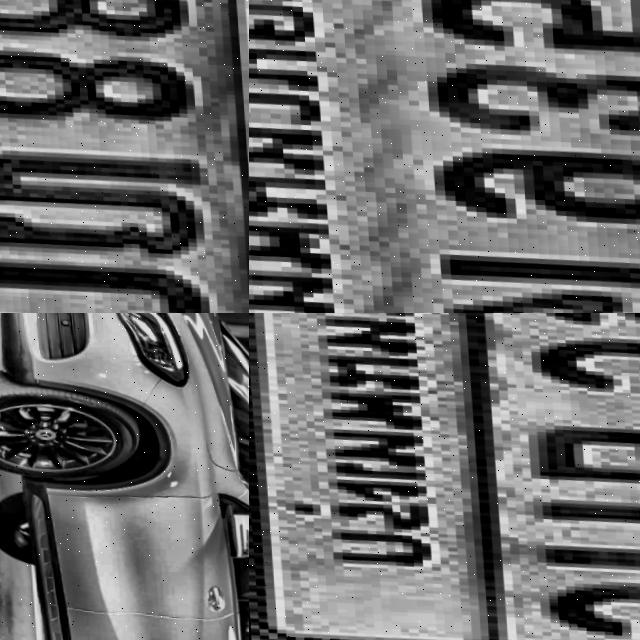license-plate: (249, 313, 640, 640), (249, 0, 640, 313), (0, 0, 249, 313)
